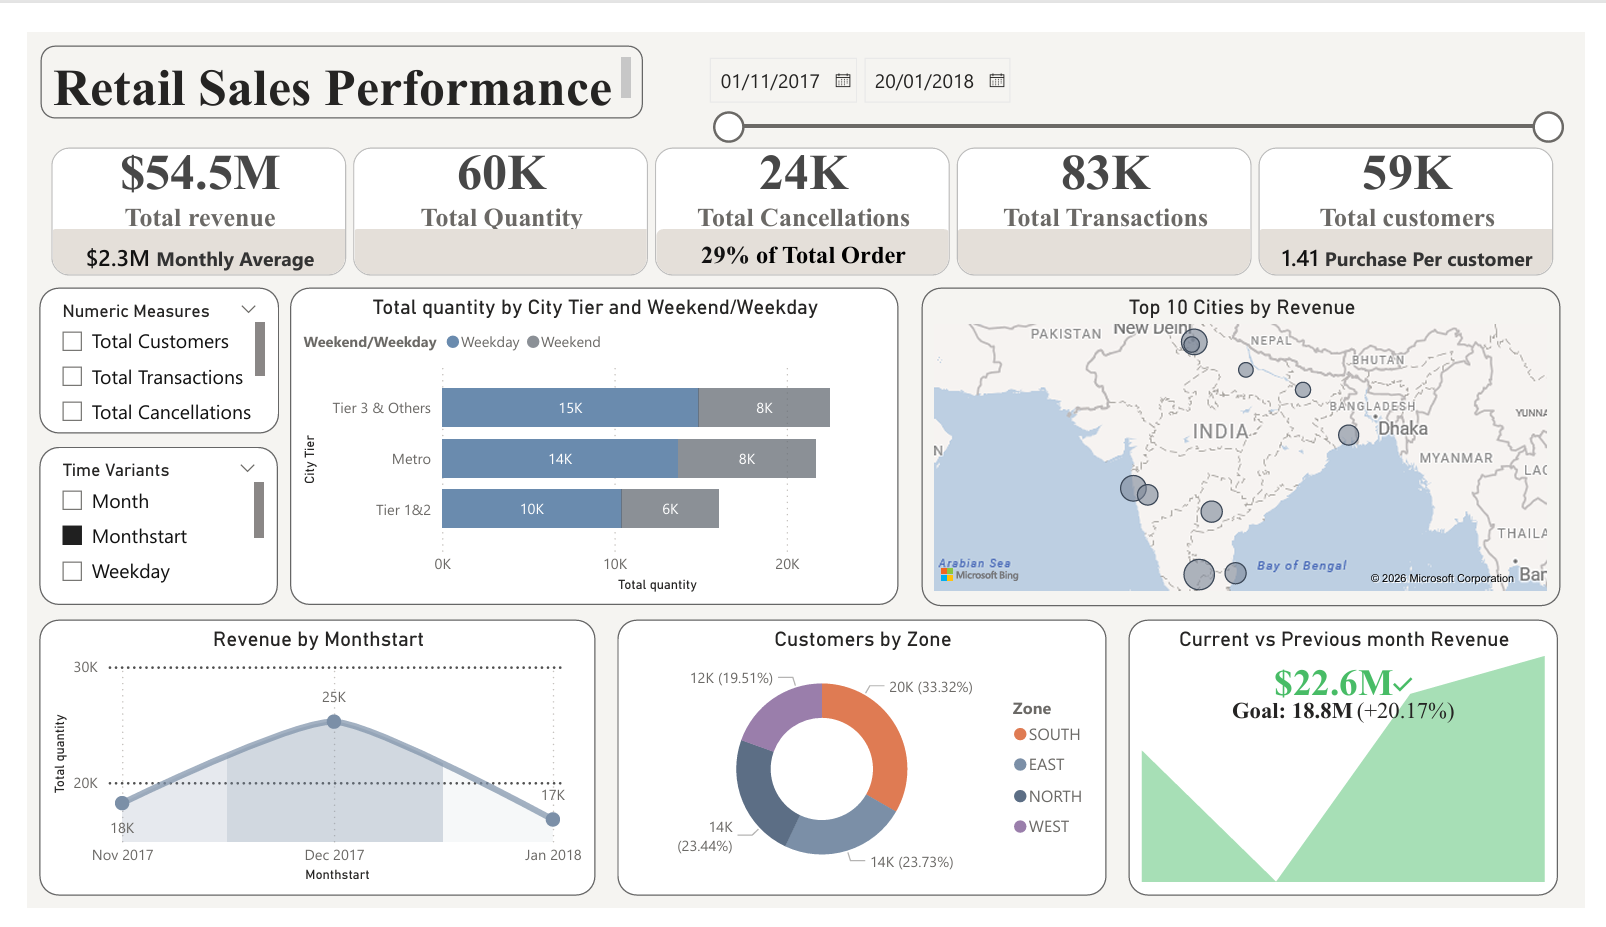

The dashboard page shown, as its layout file describes it:
{"tool":"powerbi","page":{"name":"Sales Performance","canvas":[1280,720],"ordinal":0},"visuals":[{"type":"slicer","fields":{"Values":["Parameter 2.Parameter"]},"box":[10,210,196.7,120],"z":0},{"type":"barChart","fields":{"Y":["KPIs.Total Cancellations"],"Category":["City_Tier.CityTier"],"Series":["Date.Weekend/Weekday"]},"box":[215.9,209.5,500,261.9],"z":1000},{"type":"slicer","fields":{"Values":["Time Variants.Time Variants"]},"box":[9.5,341.3,196.8,130.2],"z":2000},{"type":"areaChart","title":"Revenue by Monthstart","fields":{"Category":["Date.Weekday"],"Y":["KPIs.Total Cancellations"]},"box":[9.5,482.5,457.1,227],"z":3000},{"type":"map","title":"Top 10 Cities by Revenue","fields":{"Category":["City_Tier.City"],"Size":["KPIs.Total revenue"]},"box":[734.5,210,525.5,261.8],"z":4000},{"type":"donutChart","title":"Customers by Zone","fields":{"Category":["PinCode-Geo.Zone"],"Y":["KPIs.Number of customers"]},"box":[485,483.3,401.7,226.7],"z":5000},{"type":"cardVisual","fields":{"Data":["KPIs.Total revenue","KPIs.Total quantity","KPIs.Total Cancellations","KPIs.Number of Transactions","KPIs.Number of customers"]},"box":[10,85,1258.3,125],"z":6000},{"type":"kpi","title":"Current vs Previous month Revenue","fields":{"Indicator":["KPIs.Total revenue"],"Goal":["KPIs.Previous Month Sales"],"TrendLine":["Date.Month_Year"]},"box":[905.5,483,352.8,227.1],"z":7000},{"type":"textbox","box":[10.6,10.6,495.1,60.6],"z":8000},{"type":"slicer","fields":{"Values":["Sales Raw.OrderDate"]},"box":[547.7,10.8,723.1,84.6],"z":9000}]}

Visuals, with their boxes in screenshot pixels (x1, y1, x2, y2), scaled from the page's 1280x720 canvas onto the 1606x927 screenshot:
slicer - Parameter 2.Parameter: (13, 270, 259, 425)
barChart - KPIs.Total Cancellations x City_Tier.CityTier: (271, 270, 898, 607)
slicer - Time Variants.Time Variants: (12, 439, 259, 607)
"Revenue by Monthstart" areaChart: (12, 621, 585, 913)
"Top 10 Cities by Revenue" map: (922, 270, 1581, 607)
"Customers by Zone" donutChart: (609, 622, 1113, 914)
cardVisual - KPIs.Total revenue x KPIs.Total quantity: (13, 109, 1591, 270)
"Current vs Previous month Revenue" kpi: (1136, 622, 1579, 914)
textbox: (13, 14, 634, 92)
slicer - Sales Raw.OrderDate: (687, 14, 1594, 123)
